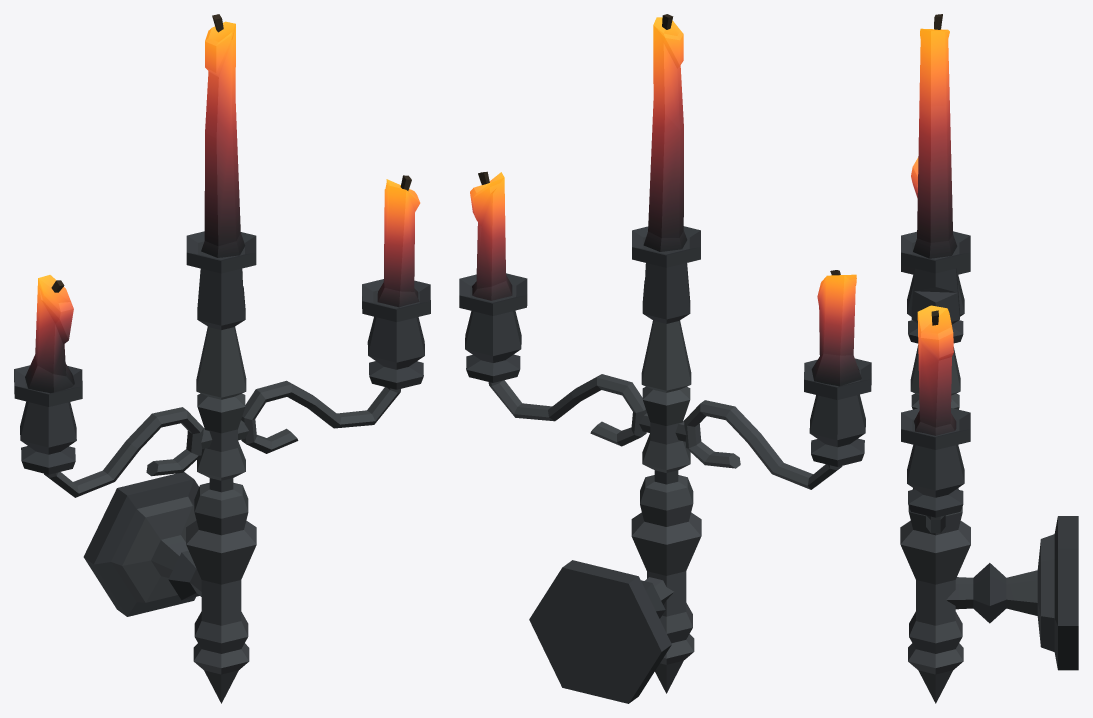
The model's file is crypt_sconce.gltf.
The picture shows the model from 3 angles, left to right: view 1: azimuth 30°, elevation 25°; view 2: azimuth 150°, elevation 25°; view 3: azimuth 270°, elevation 25°; orthographic projection.
Visible parts, largest first — view 1: crypt_sconce; view 2: crypt_sconce; view 3: crypt_sconce.
Boxes of the visible parts, left/top/right/bottom form: crypt_sconce: left=14, top=14, right=430, bottom=703; crypt_sconce: left=459, top=14, right=871, bottom=703; crypt_sconce: left=900, top=14, right=1078, bottom=703.
Size of the model in its own units: 0.9111 by 1.44 by 0.3378.
Materials: 1 (1 with a texture image).
